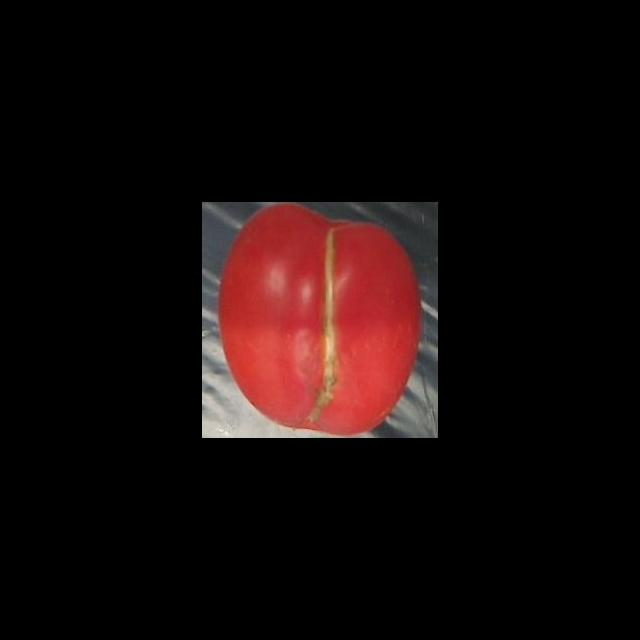tomato: (216, 202, 427, 438)
